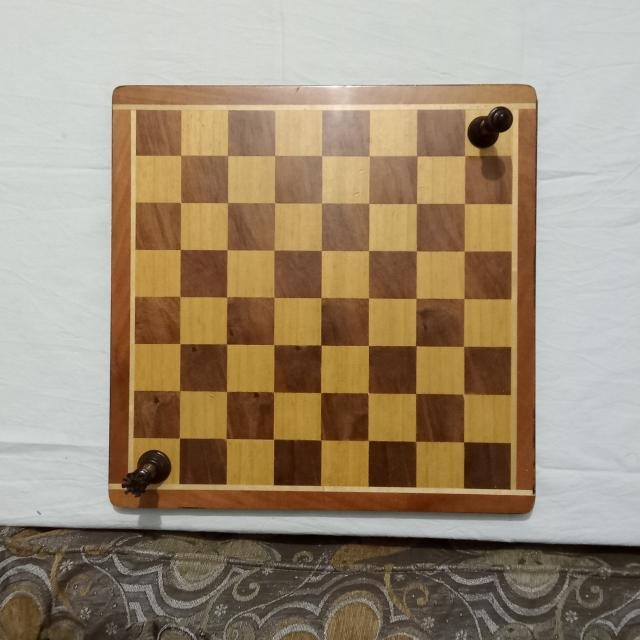black-king: (466, 104, 514, 147)
black-queen: (120, 450, 175, 498)
